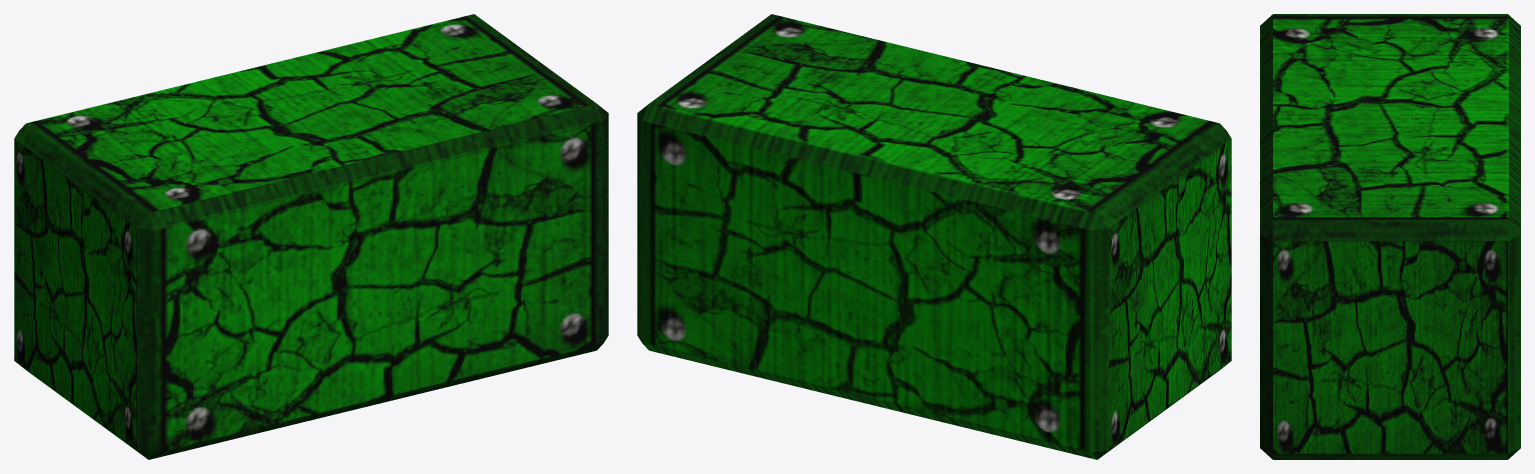
The model's file is Block_Green_Medium_c.obj.
3 views of the same model, side by side, from view 1: azimuth 30°, elevation 25°; view 2: azimuth 150°, elevation 25°; view 3: azimuth 270°, elevation 25° (orthographic). The views are drawn at different scales.
Visible parts, largest first — view 1: default; view 2: default; view 3: default.
Part boxes in pixels (left/top/right/bottom): default: left=14, top=14, right=608, bottom=459; default: left=637, top=14, right=1231, bottom=459; default: left=1260, top=14, right=1520, bottom=459.
Size of the model in its own units: 2 by 1 by 1.
